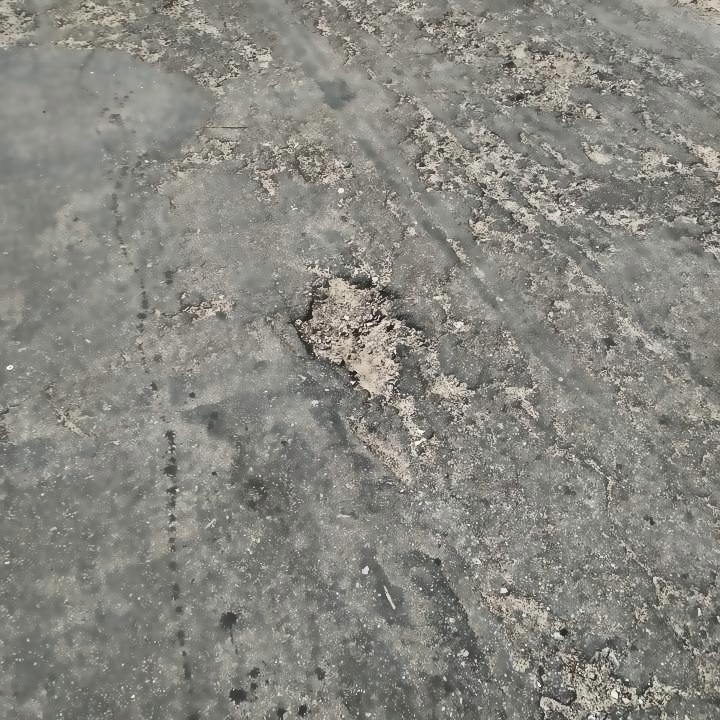pothole: (299, 273, 431, 398), (506, 40, 596, 120)
